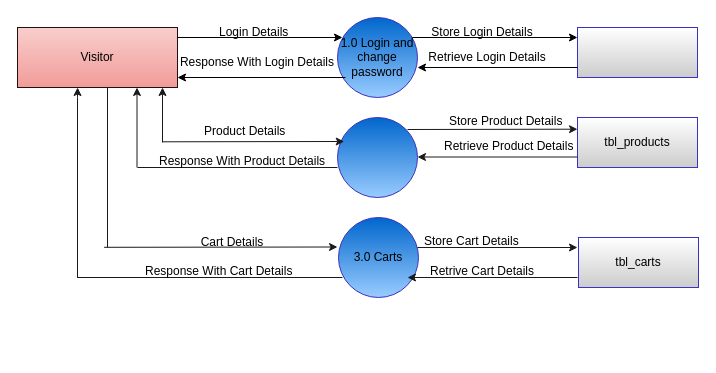
Image size: 716x373. Some labels were removed from this diagram. The centre of each missing label's shape, as x and y in pixels:
"2.0 Product" goes at (x=377, y=157).
"tbl_login" goes at (x=637, y=52).
